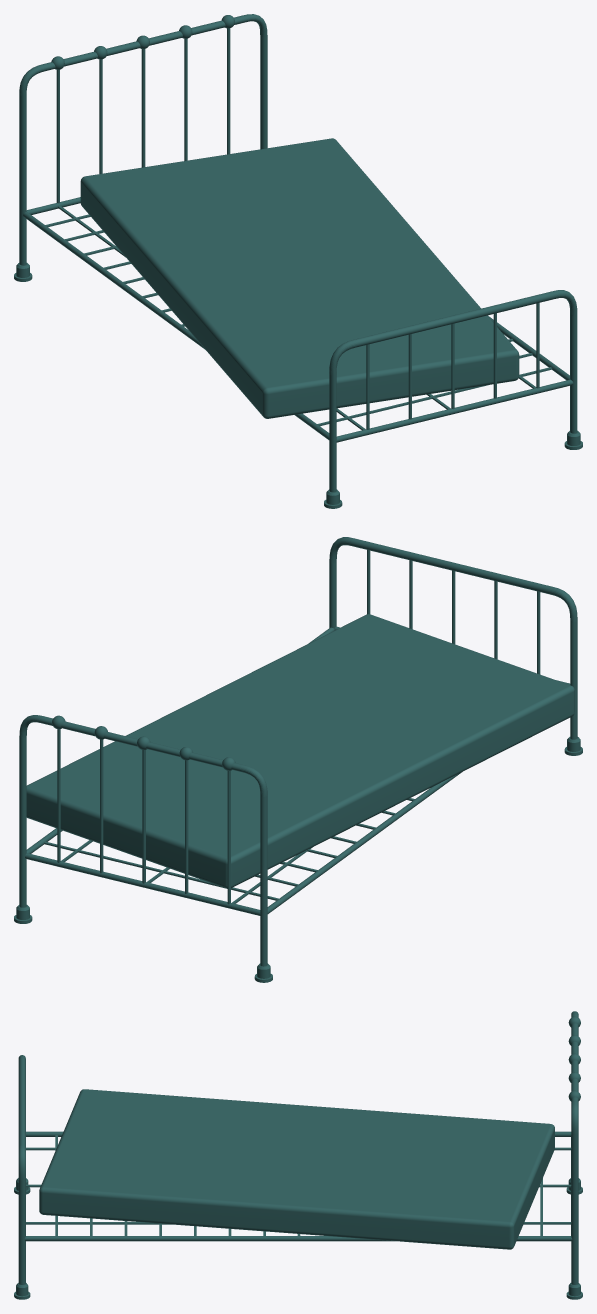
Rendered from bed low.fbx.
3 views of the same model, one above another, from view 1: azimuth 30°, elevation 25°; view 2: azimuth 150°, elevation 25°; view 3: azimuth 270°, elevation 25° (orthographic). The views are drawn at different scales.
Parts seen in each view (by area): view 1: bed_01_low, bed_09_low, bed_07_low, bed_08_low; view 2: bed_01_low, bed_09_low, bed_07_low, bed_08_low; view 3: bed_01_low, bed_08_low, bed_09_low, bed_07_low.
Part boxes in pixels (bbox=[...]): bed_01_low: bbox=[80, 138, 519, 418]; bed_09_low: bbox=[19, 14, 267, 265]; bed_07_low: bbox=[329, 290, 577, 492]; bed_08_low: bbox=[23, 206, 569, 439]; bed_01_low: bbox=[26, 614, 574, 888]; bed_09_low: bbox=[19, 715, 267, 966]; bed_07_low: bbox=[329, 537, 577, 739]; bed_08_low: bbox=[26, 627, 461, 913]; bed_01_low: bbox=[39, 1089, 554, 1249]; bed_08_low: bbox=[24, 1131, 572, 1241]; bed_09_low: bbox=[568, 1011, 580, 1284]; bed_07_low: bbox=[18, 1055, 25, 1284].
Bounding box in the file's own units: 112 × 72.93 × 198.
